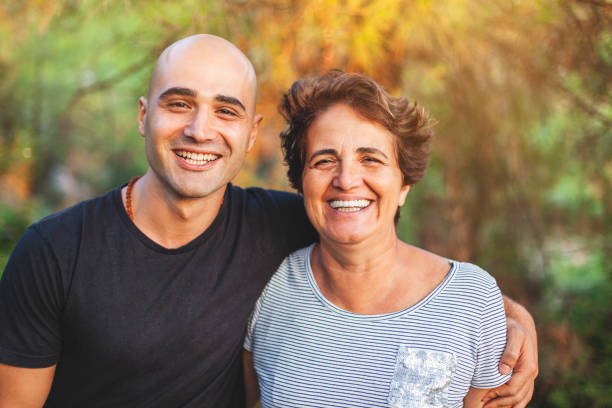face: (146, 64, 249, 201), (303, 121, 400, 241)
